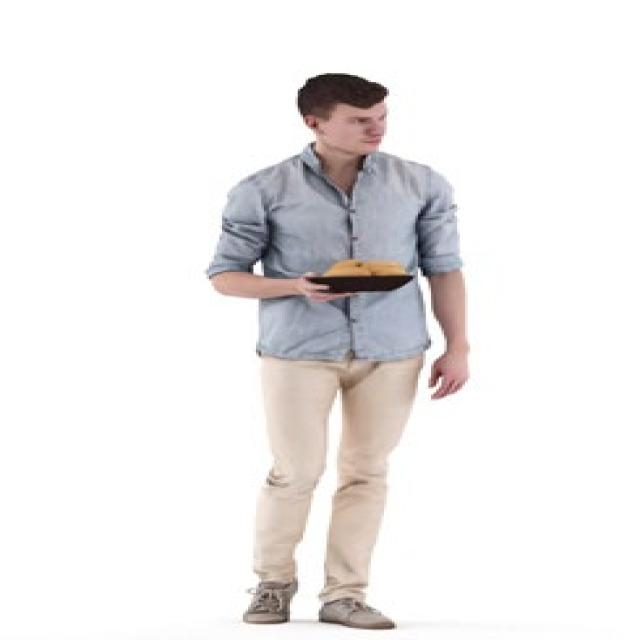standing: (206, 70, 478, 632)
